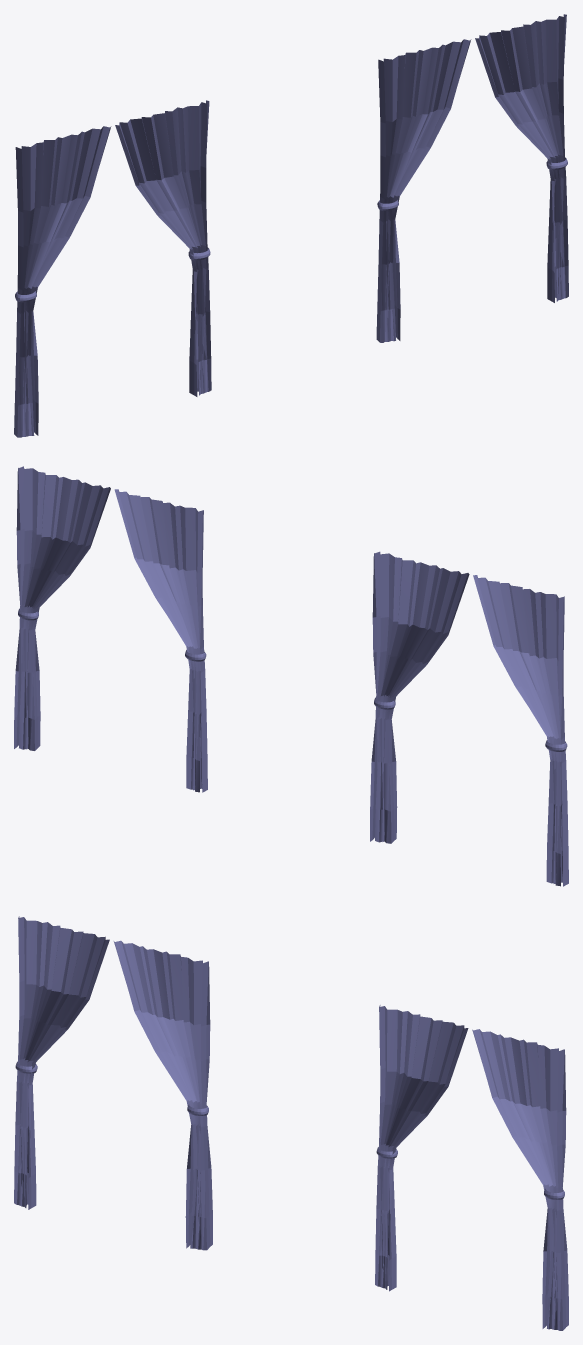
The model's file is Cortinas.obj.
3 renders of one model, top to bottom at view 1: azimuth 30°, elevation 25°; view 2: azimuth 150°, elevation 25°; view 3: azimuth 330°, elevation 25°, orthographic.
Visible parts, largest first — view 1: Cortinas_polySurface001, Cortinas_polySurface18; view 2: Cortinas_polySurface001, Cortinas_polySurface18; view 3: Cortinas_polySurface001, Cortinas_polySurface18.
Part boxes in pixels (x1,y1,x2,y2): Cortinas_polySurface001: [14, 100, 211, 437]; Cortinas_polySurface18: [376, 14, 568, 342]; Cortinas_polySurface001: [370, 551, 568, 886]; Cortinas_polySurface18: [14, 466, 207, 792]; Cortinas_polySurface001: [14, 916, 212, 1250]; Cortinas_polySurface18: [375, 1005, 568, 1330].
Bounding box in the file's own units: 202 × 101 × 6.97.
1 material, 1 textured.
